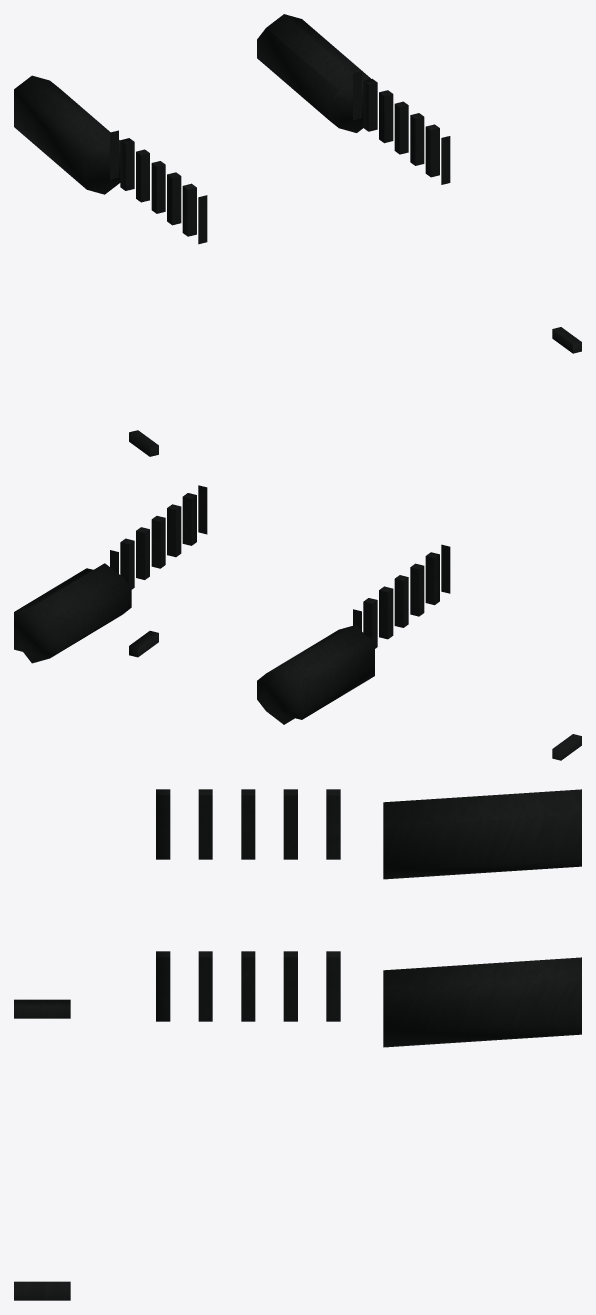
The picture shows the model from 3 angles, top to bottom: view 1: azimuth 30°, elevation 25°; view 2: azimuth 150°, elevation 25°; view 3: azimuth 270°, elevation 25°; orthographic projection. The views are drawn at different scales.
Bounding box in the file's own units: 2.4 × 1.1 × 2.
Materials: 1 (1 with a texture image).
